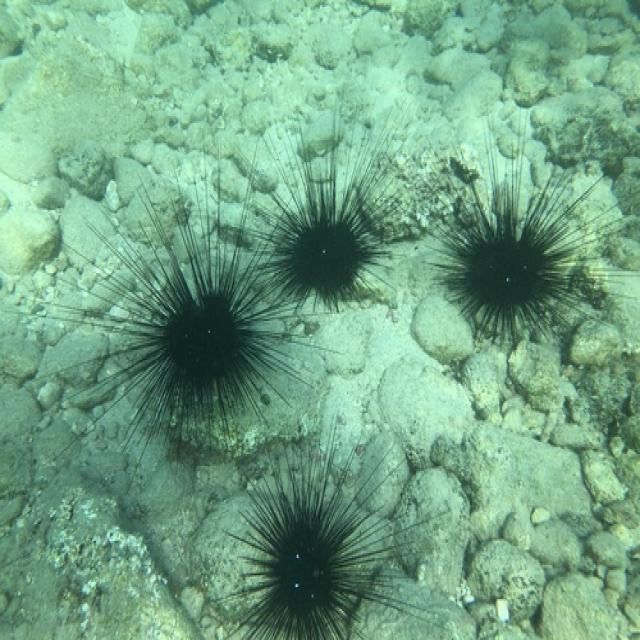Urchin: (59, 145, 328, 447), (418, 90, 635, 345), (215, 418, 443, 640), (238, 84, 414, 310)
